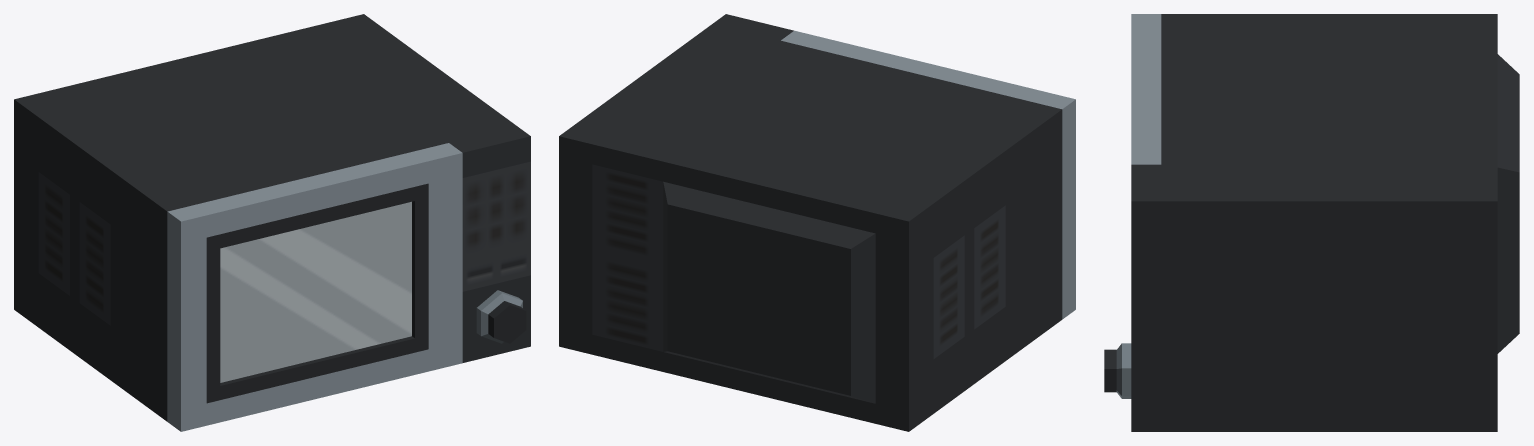
The model's file is SM_Prop_Microwave_01.fbx.
3 renders of one model, left to right at view 1: azimuth 30°, elevation 25°; view 2: azimuth 150°, elevation 25°; view 3: azimuth 270°, elevation 25°, orthographic. The views are drawn at different scales.
Visible parts, largest first — view 1: SM_Prop_Microwave_01; view 2: SM_Prop_Microwave_01; view 3: SM_Prop_Microwave_01.
Boxes of the visible parts, bbox=[...] form: SM_Prop_Microwave_01: bbox=[14, 14, 530, 431]; SM_Prop_Microwave_01: bbox=[559, 14, 1075, 431]; SM_Prop_Microwave_01: bbox=[1104, 14, 1519, 431].
Bounding box in the file's own units: 56.86 × 32.67 × 53.33.
